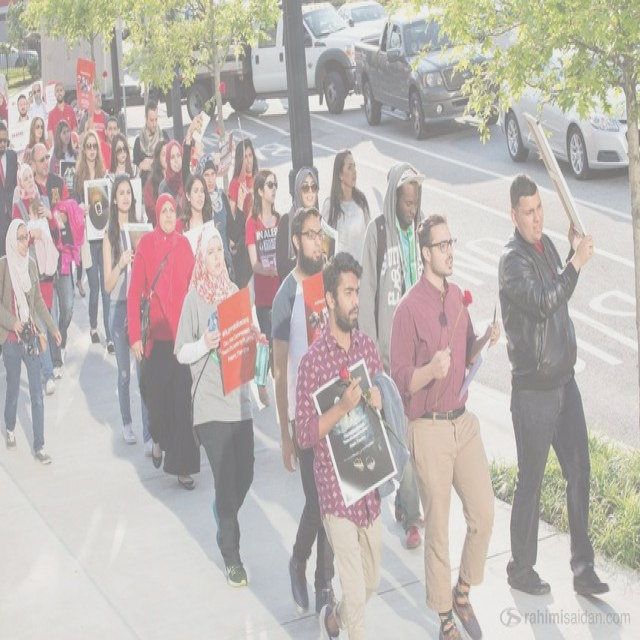pessoa: (383, 206, 503, 638), (494, 168, 612, 600), (288, 244, 413, 638), (171, 222, 262, 590), (268, 204, 341, 619), (355, 160, 426, 552), (123, 188, 204, 494), (0, 212, 64, 470), (101, 171, 157, 459), (28, 138, 89, 382), (180, 108, 244, 285), (10, 162, 60, 388), (72, 126, 116, 357), (243, 168, 283, 409), (320, 148, 373, 286), (0, 60, 56, 182), (274, 162, 327, 279), (225, 136, 260, 292), (131, 98, 171, 196), (107, 132, 143, 228), (174, 170, 215, 254), (48, 118, 84, 207), (78, 86, 114, 172), (0, 120, 18, 258), (142, 138, 169, 229), (156, 136, 186, 216), (45, 79, 80, 147), (19, 114, 51, 166), (99, 116, 121, 172)
